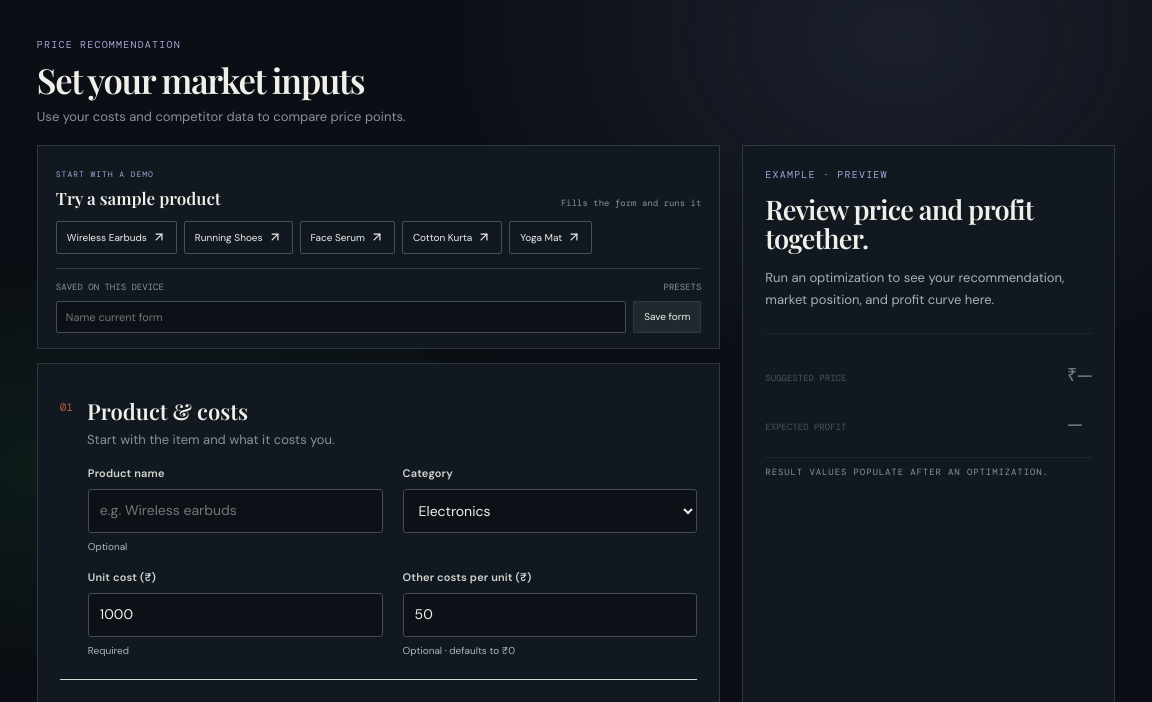
Test: PriceOptimizer › fills the selected sample and runs the optimizer
The image size is (1152, 702).
Click the button "Wireless Earbuds": [116, 237] box [56,220,177,254]
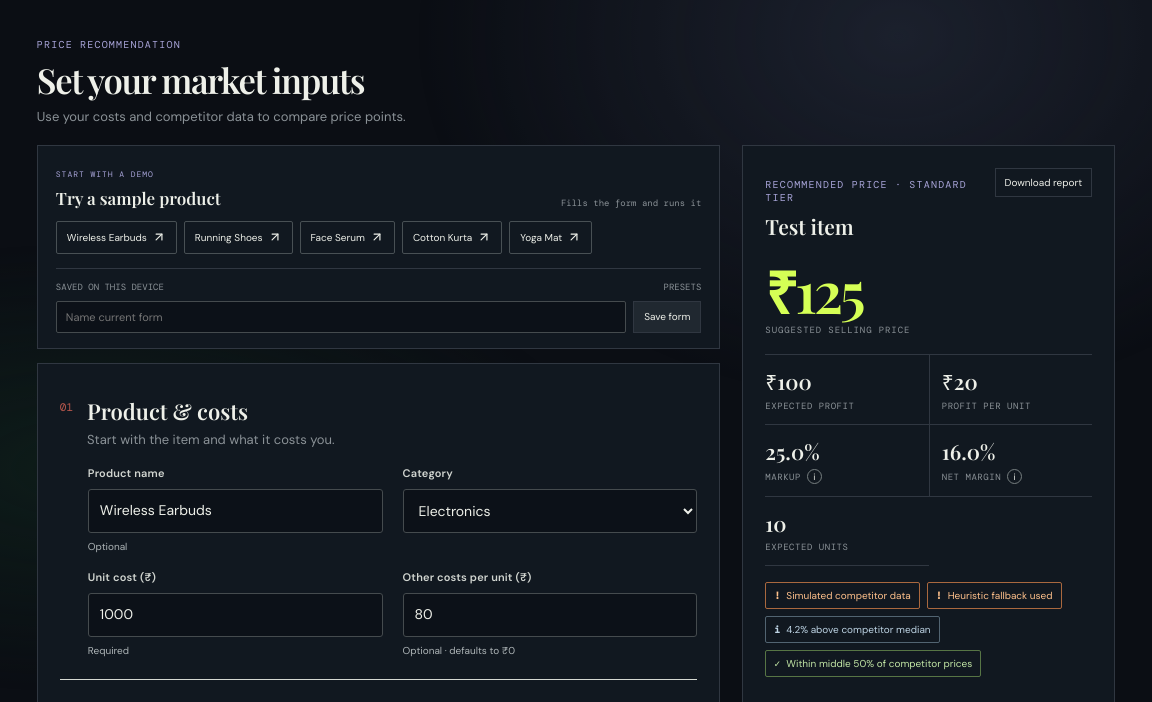
Now the text "₹125" is shown, box [765,252,862,328]
Now the field labelled "Product name" holds "Wireless Earbuds", box [88,488,383,532]
